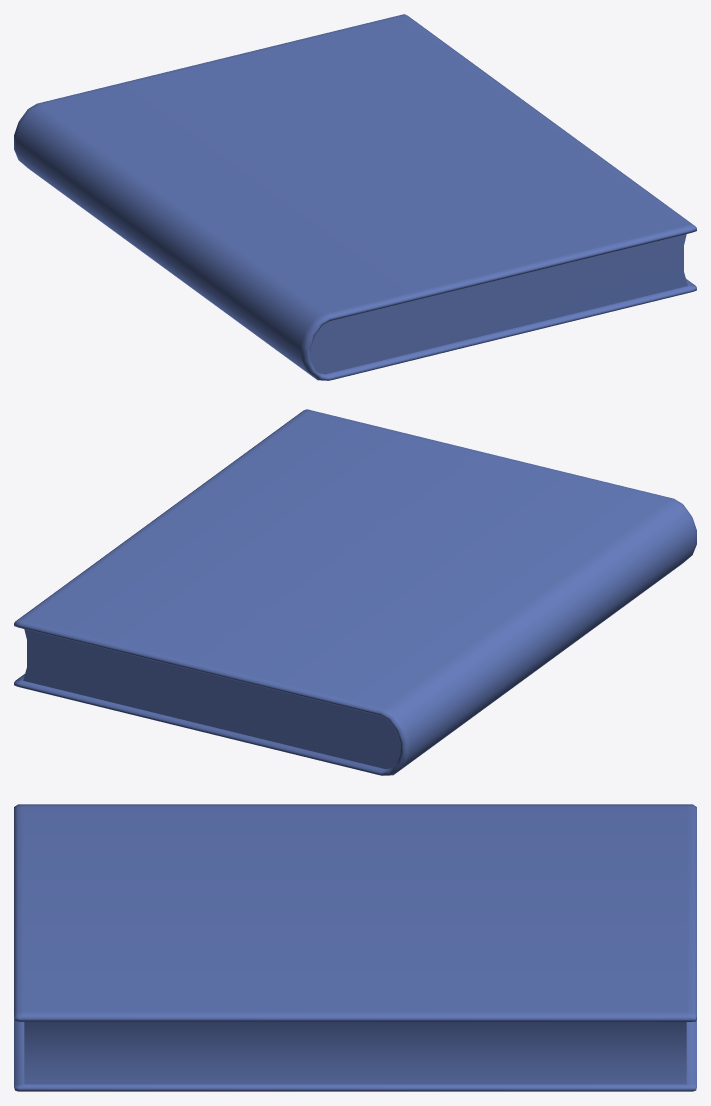
The model's file is Book_single_B.FBX.
The picture shows the model from 3 angles, top to bottom: view 1: azimuth 30°, elevation 25°; view 2: azimuth 150°, elevation 25°; view 3: azimuth 270°, elevation 25°; orthographic projection. The views are drawn at different scales.
Parts seen in each view (by area): view 1: Book_single_B_LOD00; view 2: Book_single_B_LOD00; view 3: Book_single_B_LOD00.
Boxes of the visible parts, box(x1,y1,x2,y2) form: Book_single_B_LOD00: box(14, 14, 696, 380); Book_single_B_LOD00: box(14, 409, 696, 775); Book_single_B_LOD00: box(14, 804, 696, 1091).
Size of what is drawn, in the model's own units: 20.87 by 3.34 by 26.91.
